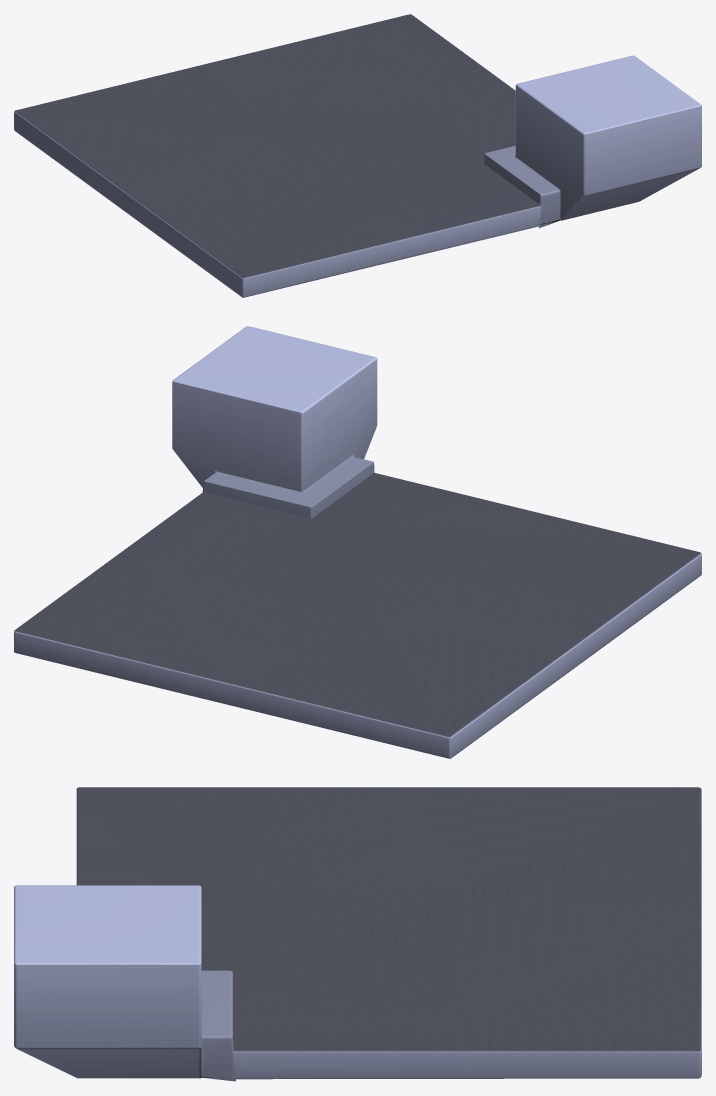
Rendered from roof-flat-corner-inner.glb.
3 renders of one model, top to bottom at view 1: azimuth 30°, elevation 25°; view 2: azimuth 150°, elevation 25°; view 3: azimuth 270°, elevation 25°, orthographic. The views are drawn at different scales.
Parts seen in each view (by area): view 1: roof-flat-corner-inner; view 2: roof-flat-corner-inner; view 3: roof-flat-corner-inner.
Boxes of the visible parts, <box> form: roof-flat-corner-inner: <box>14,14,701,297</box>; roof-flat-corner-inner: <box>14,326,701,758</box>; roof-flat-corner-inner: <box>14,787,701,1081</box>.
Bounding box in the file's own units: 2.2 × 0.5088 × 2.2.
Materials: 1 (1 with a texture image).
